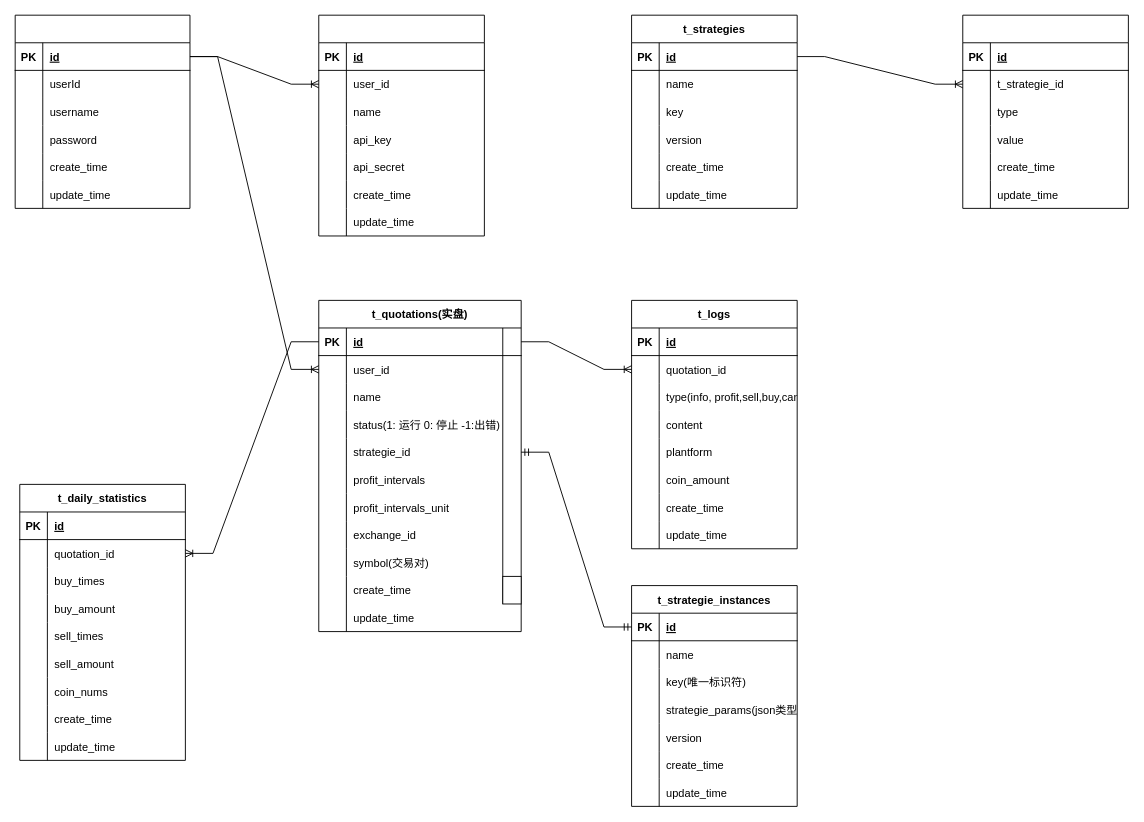
Some shapes in this 1144 by 822 pixel diagram are drawn without their labels. The box of each missing label's shape, as (x1, y1, x2, y2) in pixels:
t_exchanges: (318, 14, 484, 236)
t_strategies_params: (962, 14, 1128, 208)
t_users: (14, 14, 190, 208)
